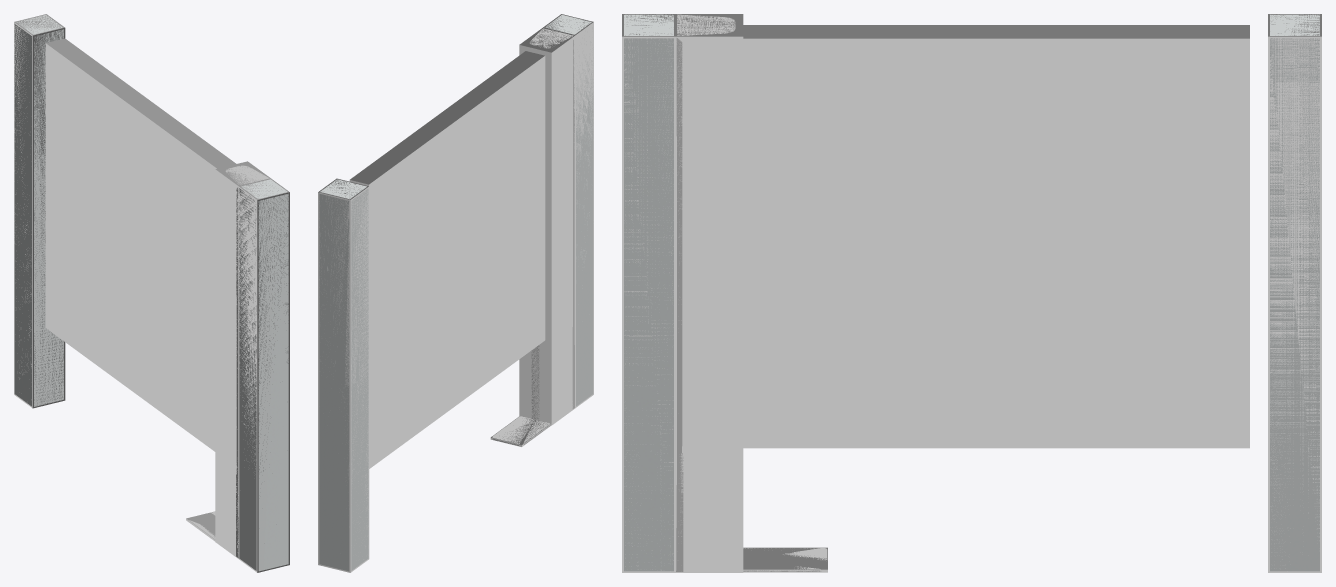
3 renders of one model, left to right at view 1: azimuth 30°, elevation 25°; view 2: azimuth 150°, elevation 25°; view 3: azimuth 270°, elevation 25°, orthographic. The views are drawn at different scales.
Parts seen in each view (by area): view 1: SM_Turnstile_Door_01a_ConvexHulls, SM_Turnstile_Door_01a; view 2: SM_Turnstile_Door_01a_ConvexHulls, SM_Turnstile_Door_01a; view 3: SM_Turnstile_Door_01a_ConvexHulls, SM_Turnstile_Door_01a.
Part boxes in pixels (<box>): SM_Turnstile_Door_01a_ConvexHulls: <box>14,14,289,572</box>; SM_Turnstile_Door_01a: <box>14,15,288,571</box>; SM_Turnstile_Door_01a_ConvexHulls: <box>318,14,593,572</box>; SM_Turnstile_Door_01a: <box>319,15,593,571</box>; SM_Turnstile_Door_01a_ConvexHulls: <box>622,14,1321,572</box>; SM_Turnstile_Door_01a: <box>624,14,1319,571</box>.
Bounding box in the file's own units: 10 × 130 × 110.
Materials: 3 (1 with a texture image).
